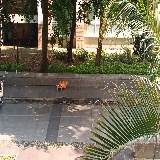fire: (58, 80, 68, 88)
